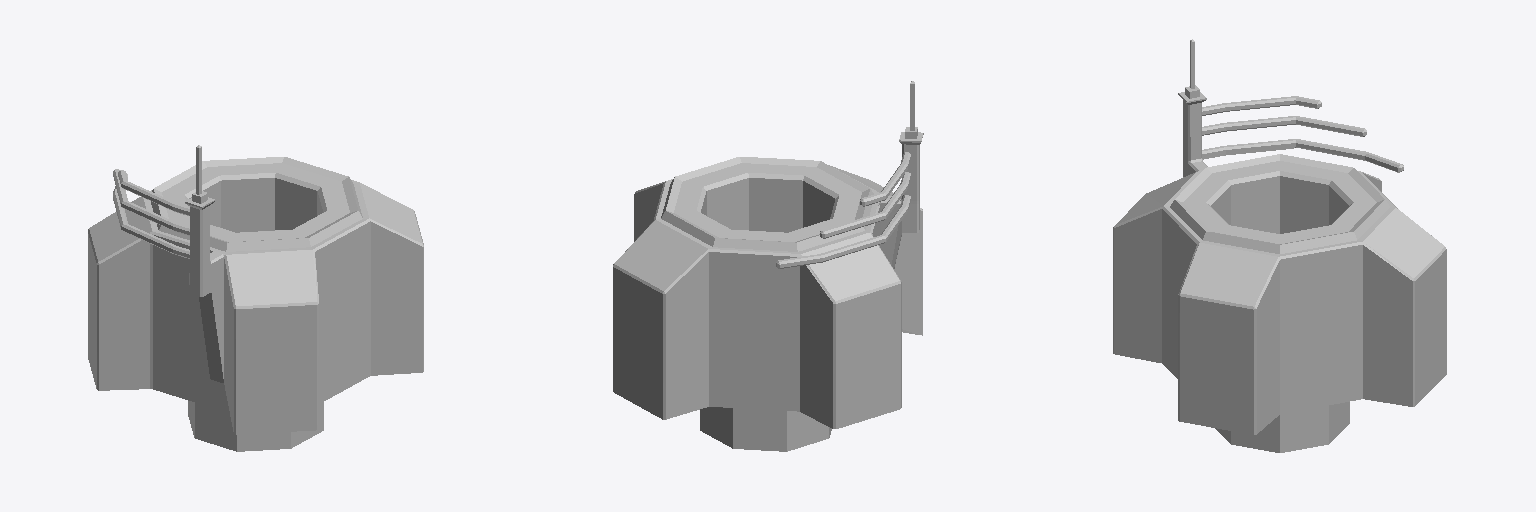
Rendered from OreShaft.obj.
3 renders of one model, left to right at view 1: azimuth 30°, elevation 25°; view 2: azimuth 150°, elevation 25°; view 3: azimuth 270°, elevation 25°, orthographic.
Parts seen in each view (by area): view 1: OreShaft:Mesh; view 2: OreShaft:Mesh; view 3: OreShaft:Mesh.
Boxes of the visible parts, x1,y1,x2,y2 form: OreShaft:Mesh: [88, 145, 423, 451]; OreShaft:Mesh: [613, 81, 923, 451]; OreShaft:Mesh: [1113, 39, 1446, 452].
Bounding box in the file's own units: 17.45 × 19.13 × 17.25.